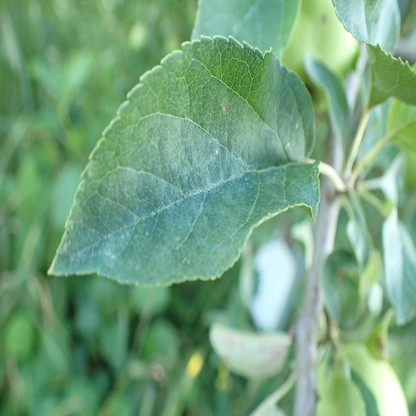frogeye_leaf_spot: (222, 105, 226, 112)
powdery_mildew: (46, 35, 320, 287)
